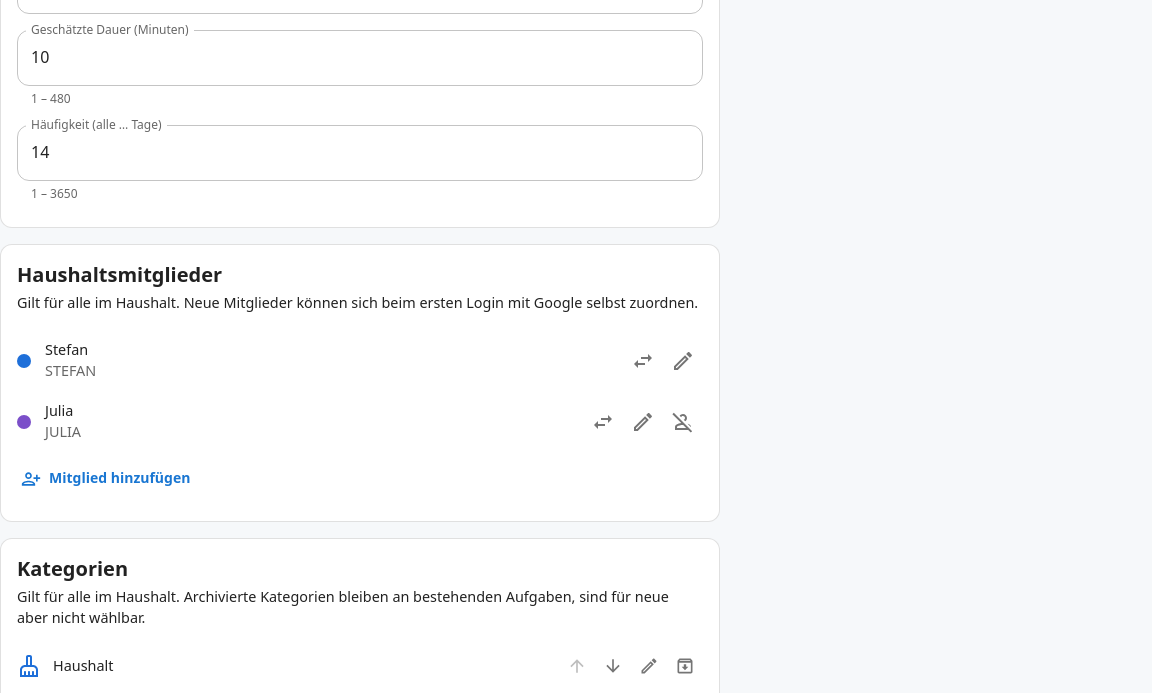
Test case: members settings › renames a member and keeps the ID
(page scrolled)
Click the button named "Stefan bearbeiten" at (683, 361), box [663,341,703,381]
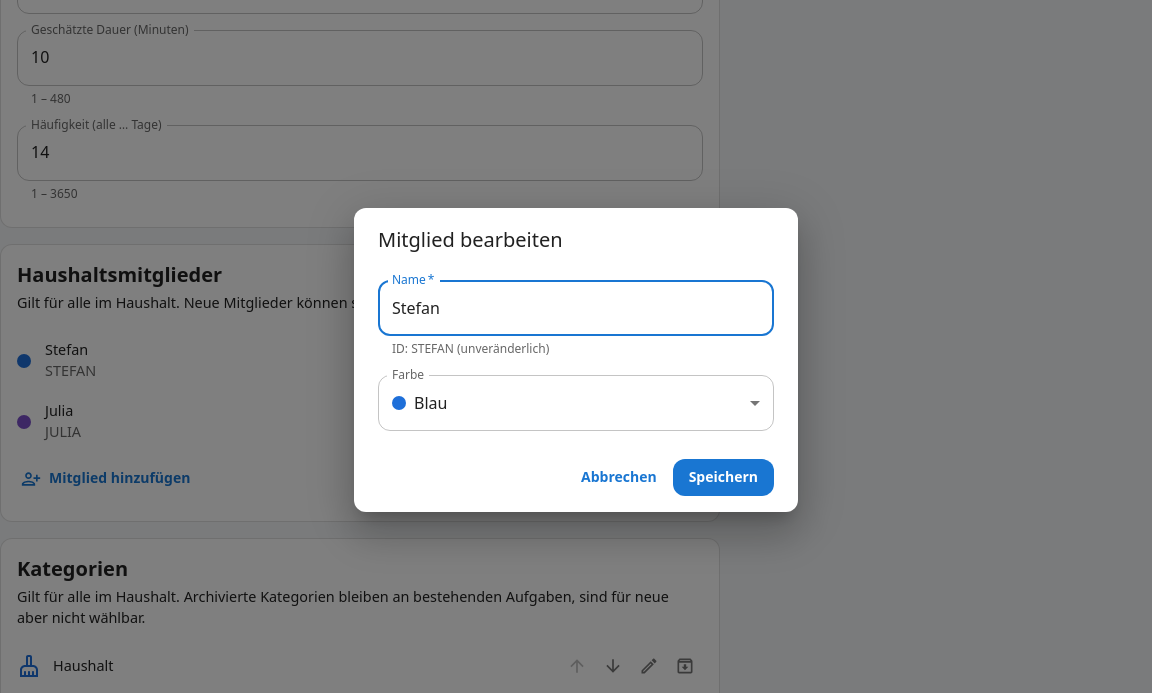
Expected: the text "ID: STEFAN (unveränderlich)" is shown, [392,340,549,357]
Replace the text in the field labelled "Name" with "Steffen" at (576, 308), box [378,280,774,336]
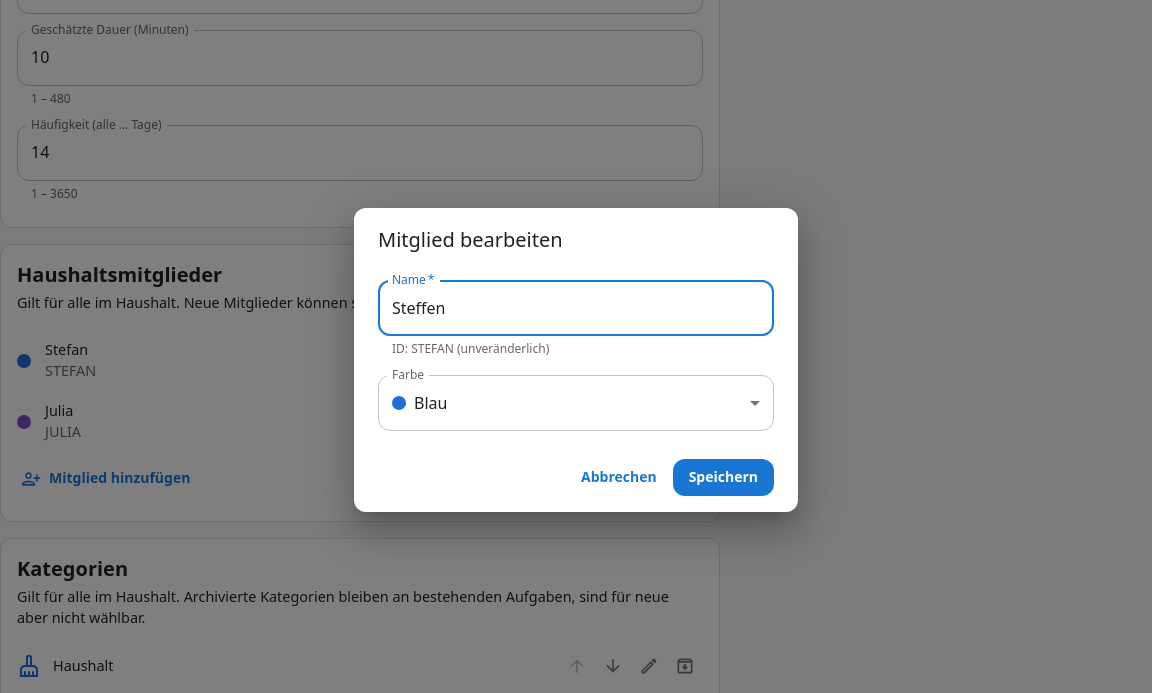
Click the button "Speichern" at (723, 477), box [673,459,774,496]
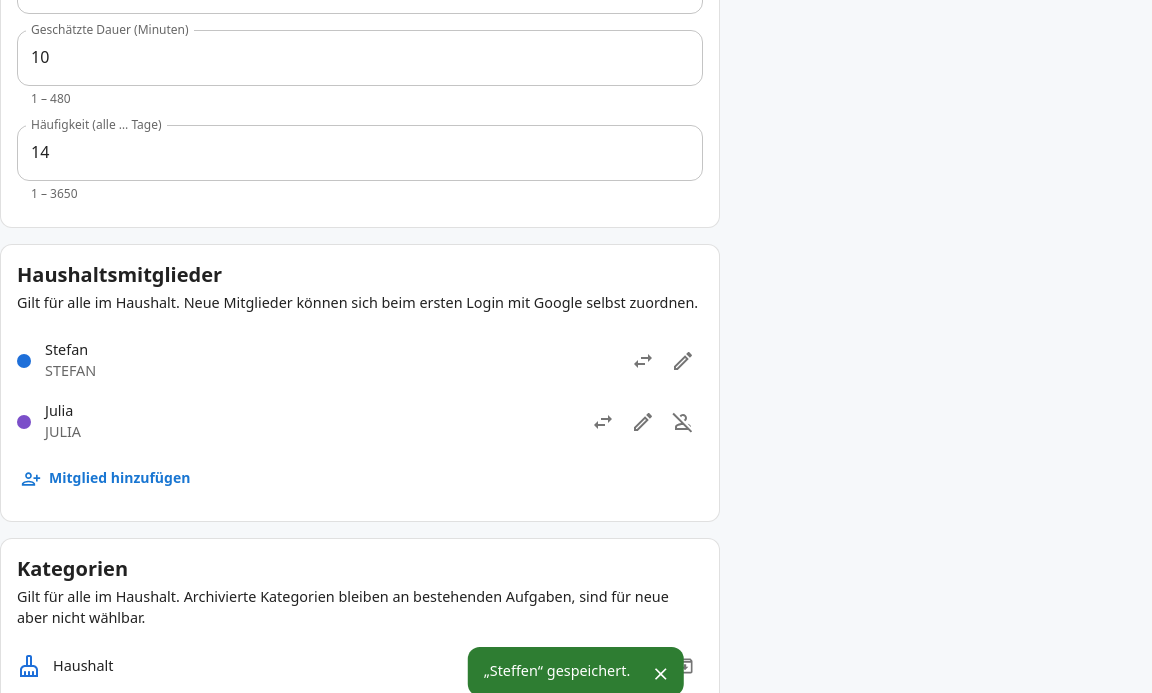
Expected: the text "„Steffen“ gespeichert." is shown, [484,661,630,680]
